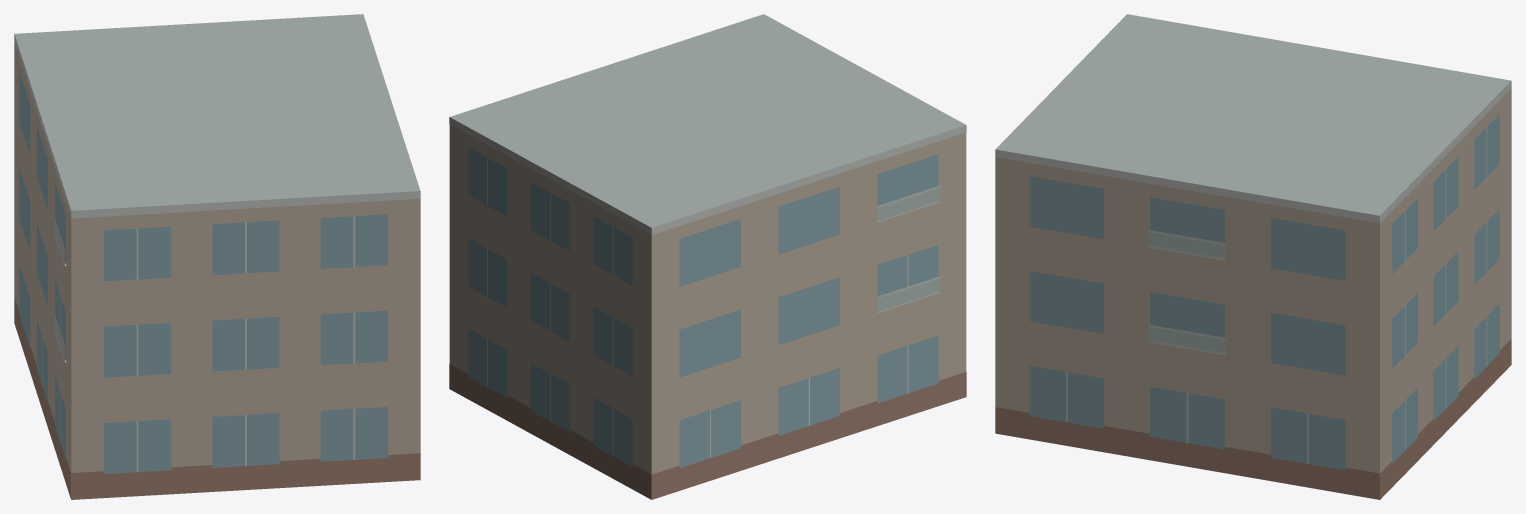
File: survey-upis-32930765.glb
3 renders of one model, left to right at view 1: azimuth 30°, elevation 25°; view 2: azimuth 150°, elevation 25°; view 3: azimuth 270°, elevation 25°, orthographic. The views are drawn at different scales.
Visible parts, largest first — view 1: survey-upis-32930765.tmp; view 2: survey-upis-32930765.tmp; view 3: survey-upis-32930765.tmp.
Part boxes in pixels (x1,y1,x2,y2): survey-upis-32930765.tmp: [14, 14, 420, 499]; survey-upis-32930765.tmp: [449, 14, 966, 499]; survey-upis-32930765.tmp: [995, 14, 1511, 499].
Size of the model in its own units: 13.95 by 9.15 by 15.08.
